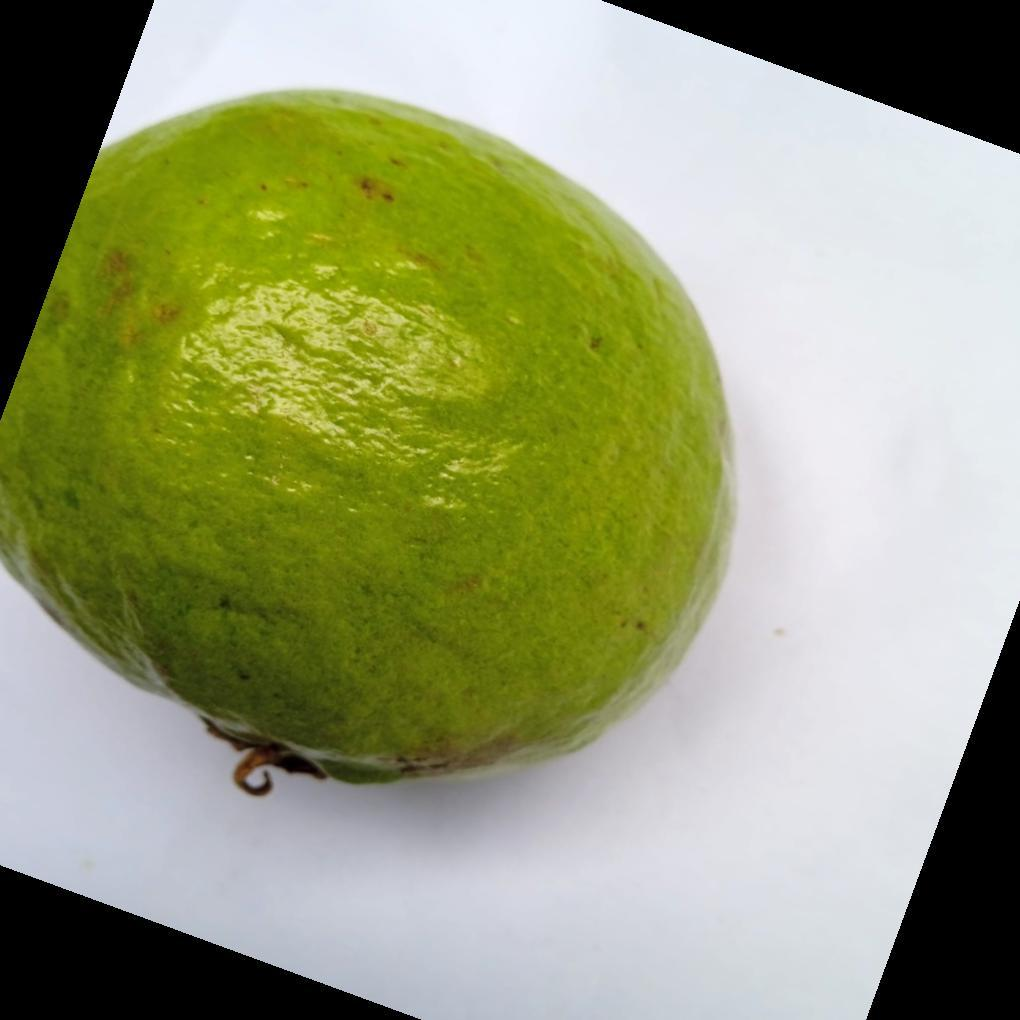FreshGuava: (0, 89, 739, 796)
